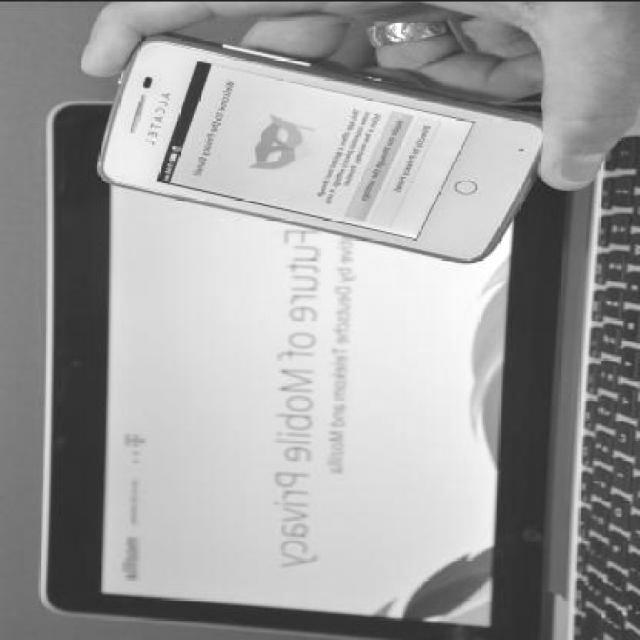fake: (104, 26, 538, 260)
